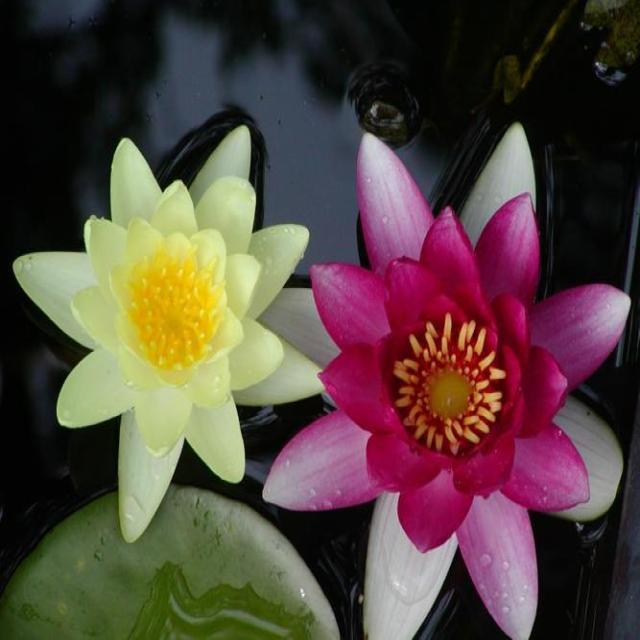water-lily: (310, 114, 610, 604), (6, 78, 302, 496)
